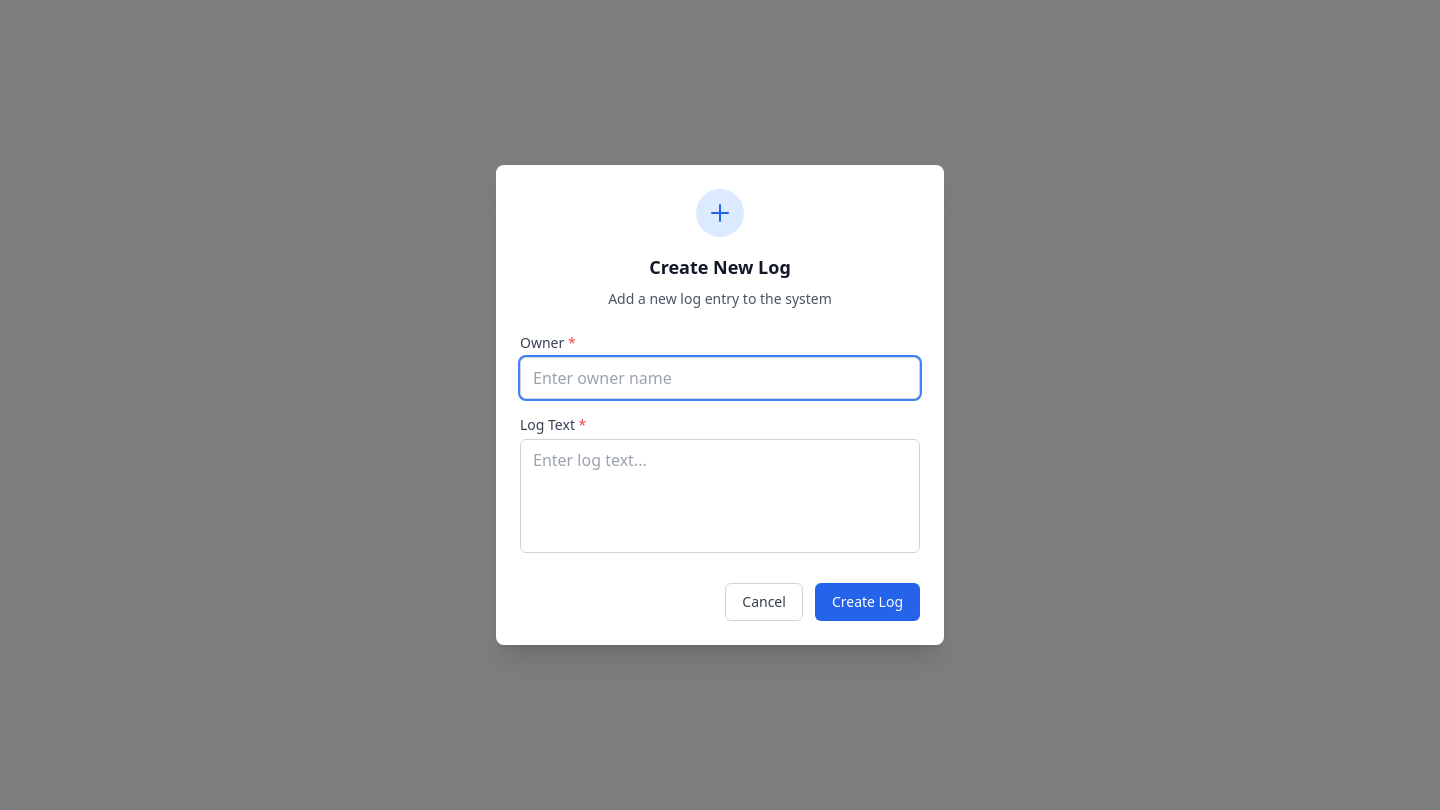
AddLogModal › should show validation errors when submitting empty form
The image size is (1440, 810).
Click the button "Create Log": (867, 602) [815,583,920,621]
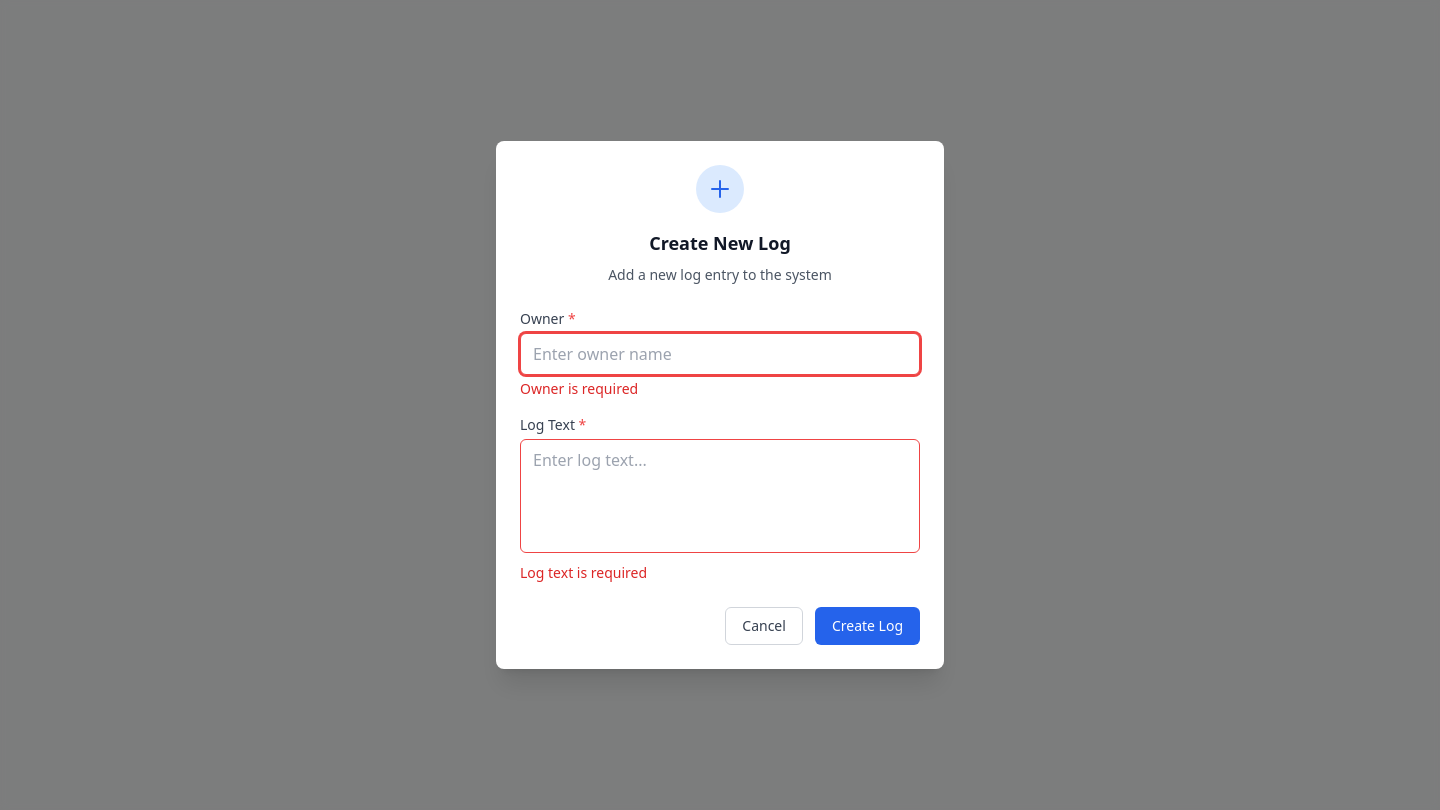
Expected: the text "Owner is required" is shown, [520,379,638,398]
Expected: the text "Log text is required" is shown, [520,563,647,582]
